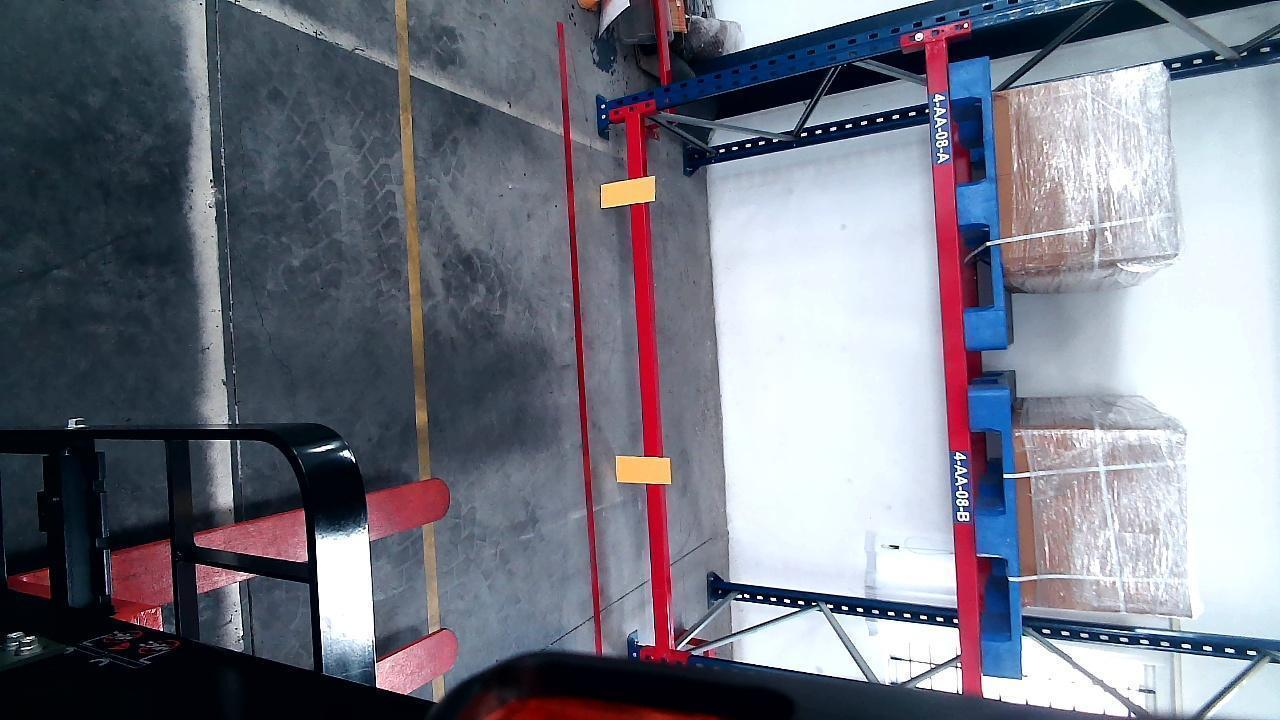red_line: (555, 17, 606, 652)
yellow_line: (395, 1, 446, 703)
